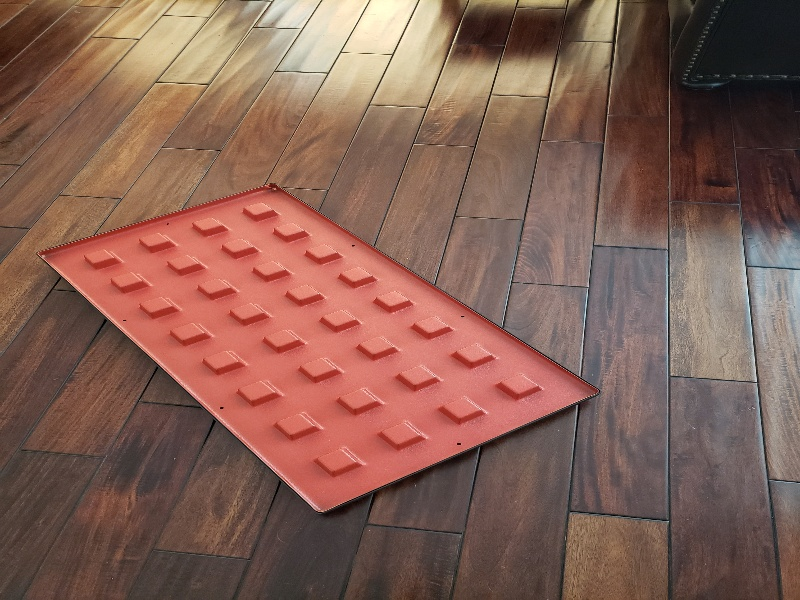skystone_base: (24, 177, 610, 517)
